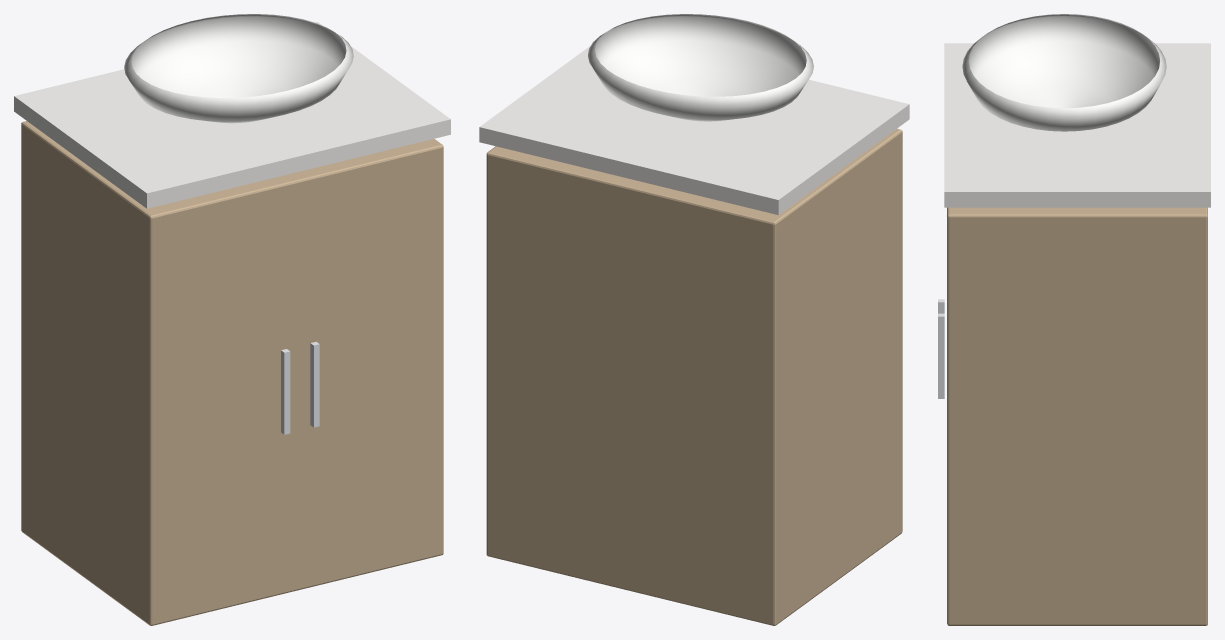
The model's file is vanity-standing-cupboard.glb.
3 renders of one model, left to right at view 1: azimuth 30°, elevation 25°; view 2: azimuth 150°, elevation 25°; view 3: azimuth 270°, elevation 25°, orthographic.
Visible parts, largest first — view 1: body; view 2: body; view 3: body.
Boxes of the visible parts, x1,y1,x2,y2 form: body: (14,14,450,625); body: (479,14,909,625); body: (938,14,1210,625).
Bounding box in the file's own units: 0.62 × 0.96 × 0.481.
